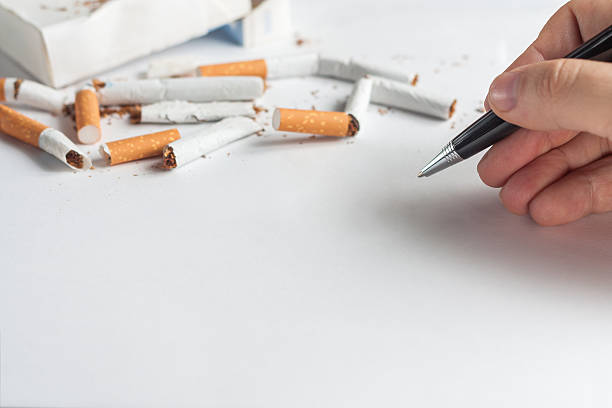cigarette: (0, 0, 293, 89), (195, 52, 421, 87), (0, 101, 93, 174), (162, 115, 264, 170), (90, 74, 265, 106), (365, 74, 458, 121), (97, 127, 182, 166), (129, 101, 259, 125), (0, 77, 71, 116), (271, 106, 351, 140), (342, 76, 375, 138), (75, 85, 102, 145)
